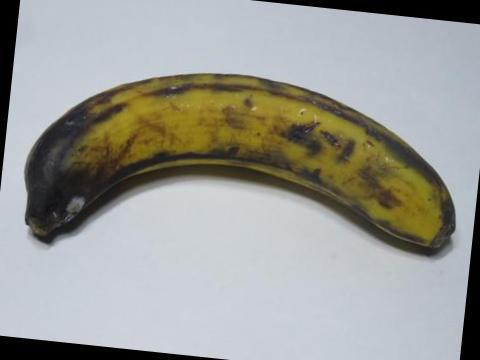overripe: (14, 49, 478, 289)
rotten: (0, 107, 137, 242)
